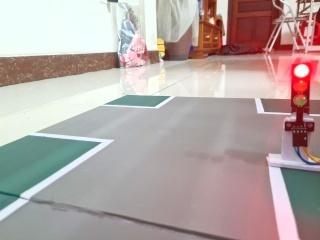red: (284, 57, 317, 120)
